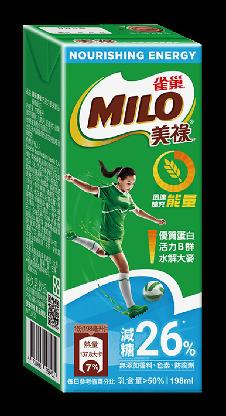Others: (23, 24, 202, 392)
